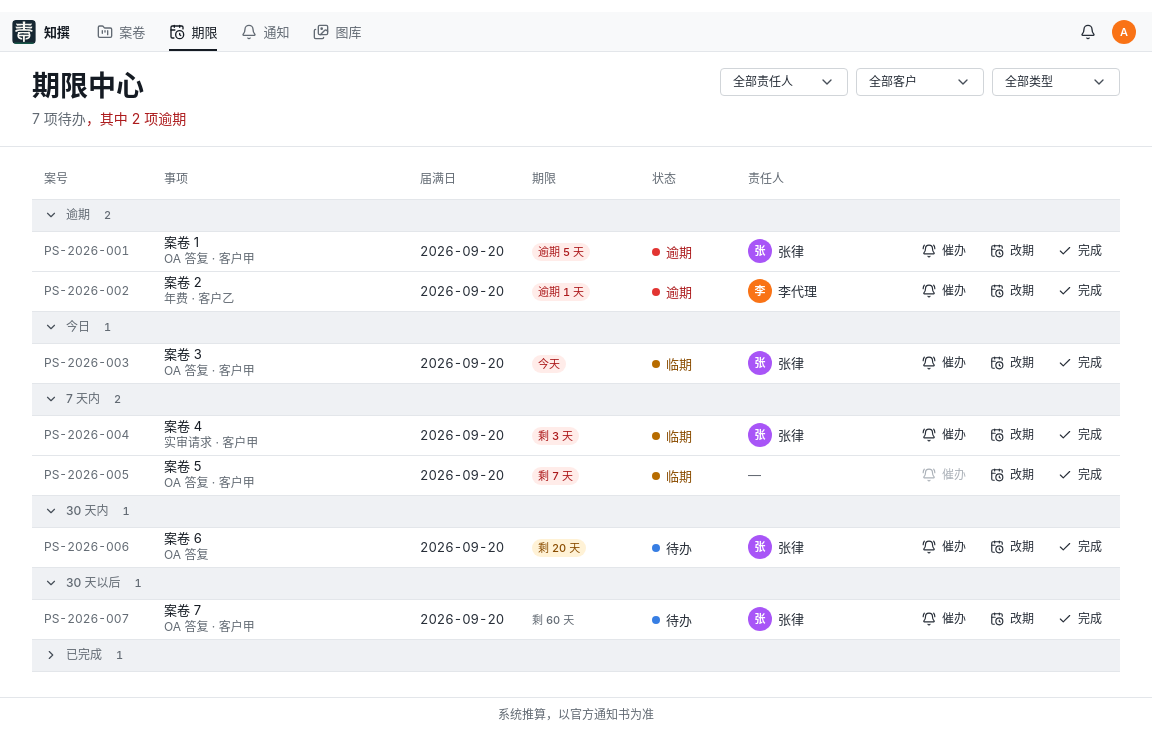
Scenario: 分组折叠偏好持久化（R115 批10b：patent-studio.deadlines.group-open） › 折叠/展开写 localStorage；重挂载沿用上次选择
Click the button with test id "group-toggle-done" at (84, 654), box [44,640,1108,670]
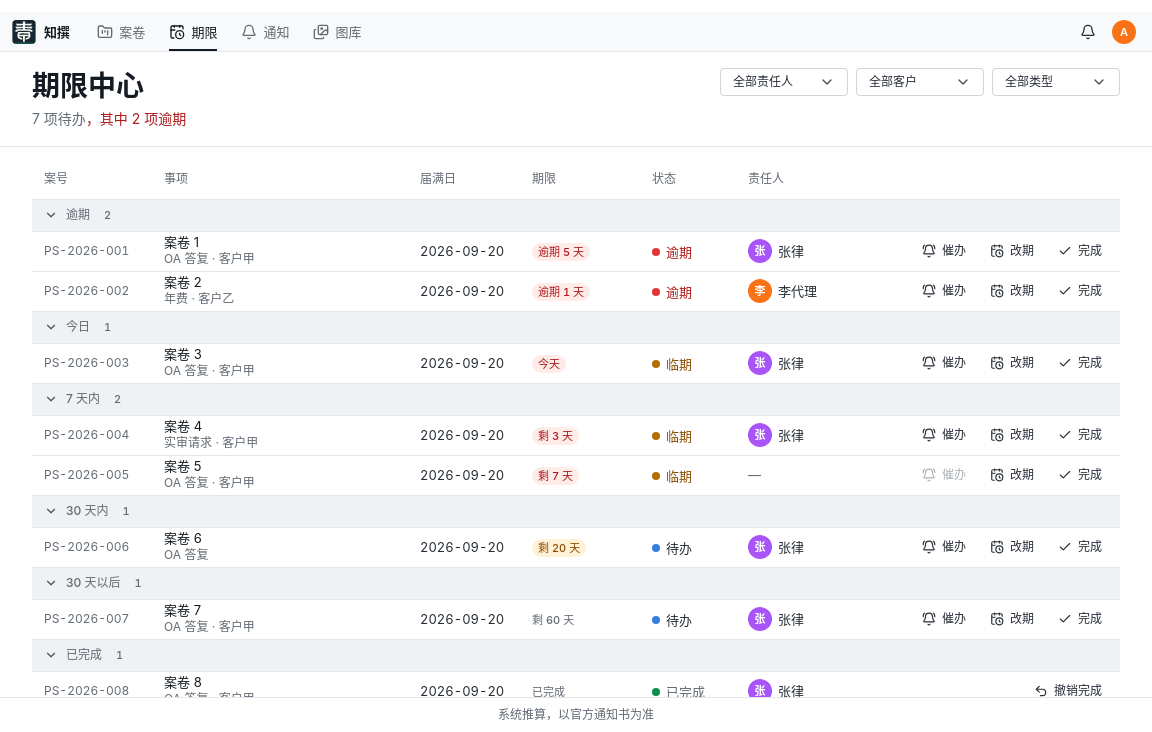
Check: the row with test id "deadline-8" is shown, box [32,671,1120,697]
Click the button with test id "group-toggle-7d" at (83, 398), box [44,384,1108,414]
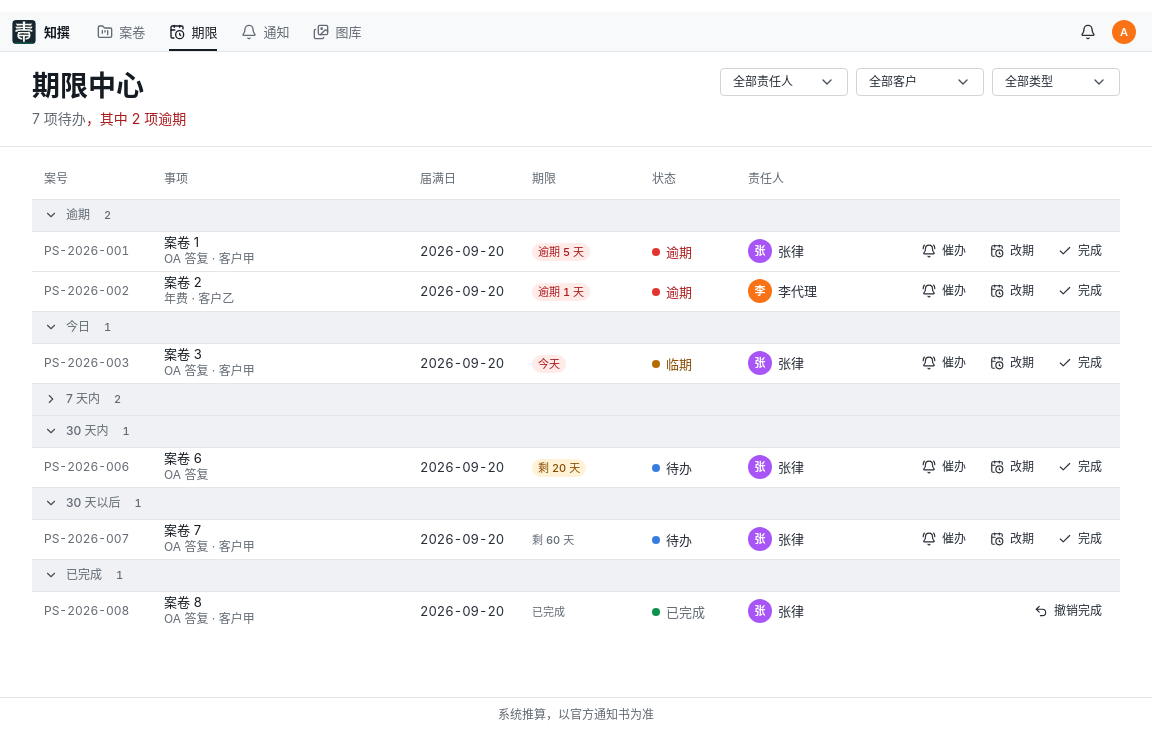
Check: the row with test id "deadline-8" is shown, box [32,591,1120,631]
Check: the row with test id "deadline-4" is gone
Check: the button with test id "group-toggle-7d" is collapsed, box [44,384,1108,414]
